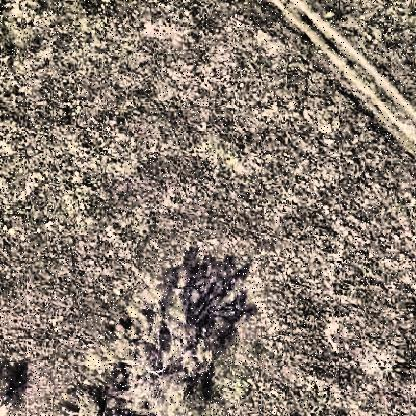tree-top: (96, 301, 222, 415), (1, 356, 30, 408)
